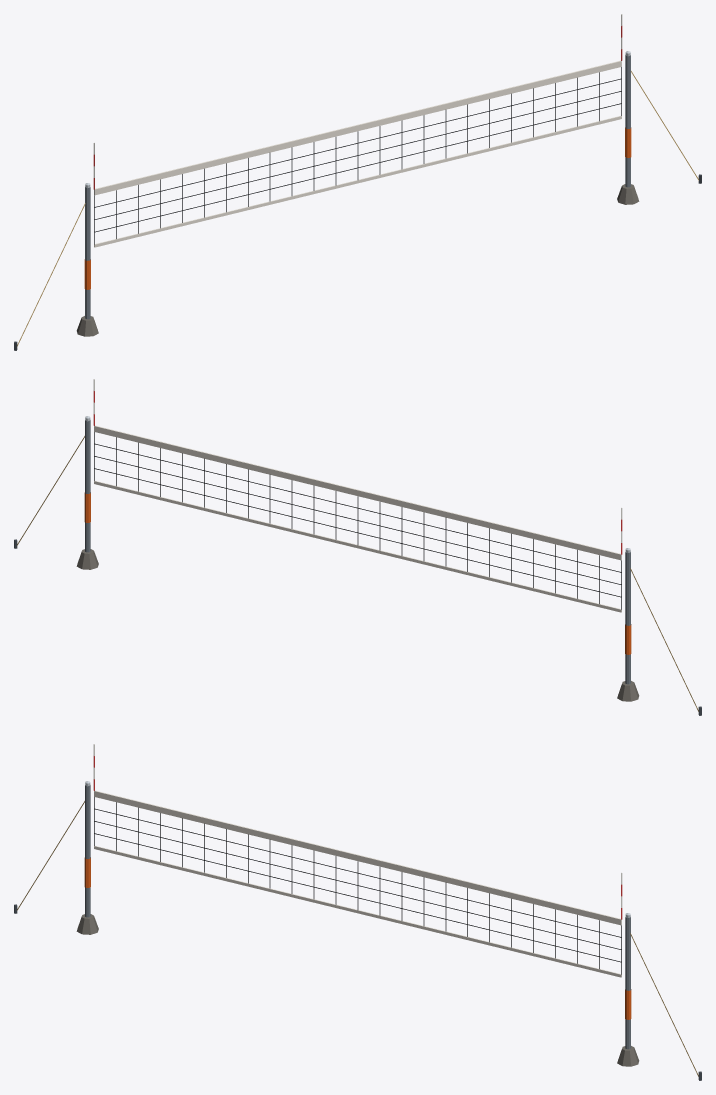
Rendered from volleyball_net.glb.
3 renders of one model, top to bottom at view 1: azimuth 30°, elevation 25°; view 2: azimuth 150°, elevation 25°; view 3: azimuth 330°, elevation 25°, orthographic.
Visible parts, largest first — view 1: Body; view 2: Body; view 3: Body.
Part boxes in pixels (x1=…): Body: x1=14, y1=14, x2=701, y2=350; Body: x1=14, y1=379, x2=701, y2=715; Body: x1=14, y1=744, x2=701, y2=1080.
Size of the model in its own units: 12.4 by 3.24 by 0.36.
